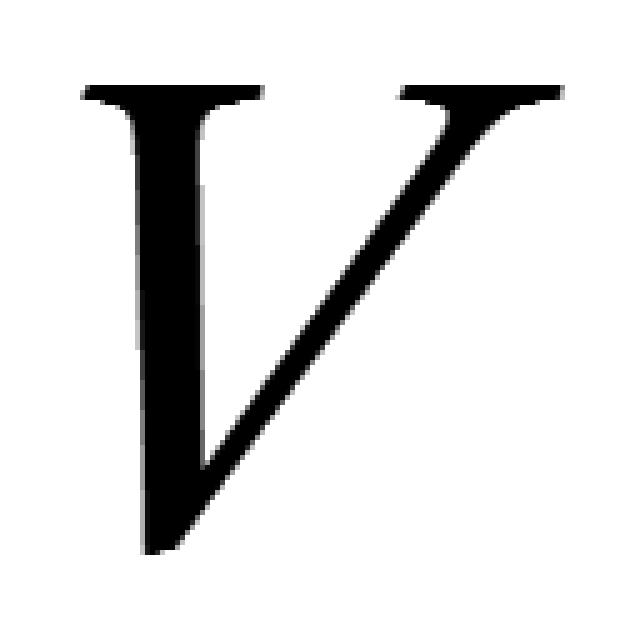V: (85, 85, 565, 560)
